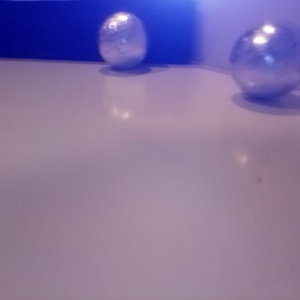alive_ball: (1, 260, 47, 300)
dead_ball: (48, 155, 256, 300), (1, 40, 97, 164)
